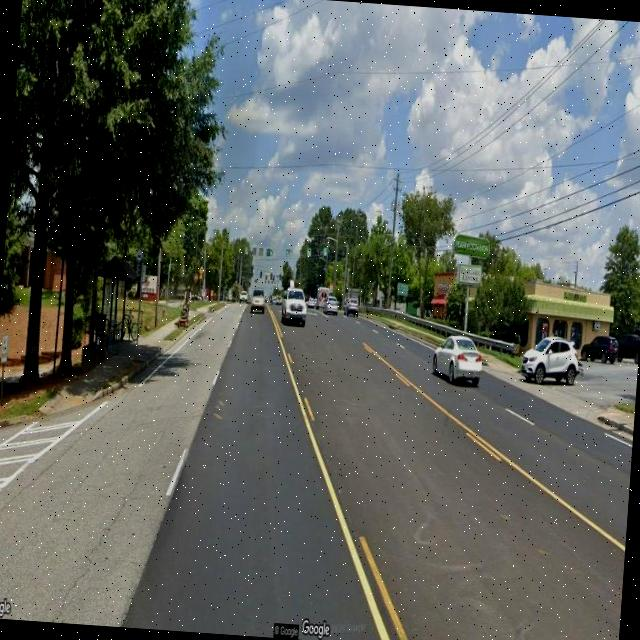shelter: (91, 253, 142, 347)
trash_can: (94, 313, 106, 347)
